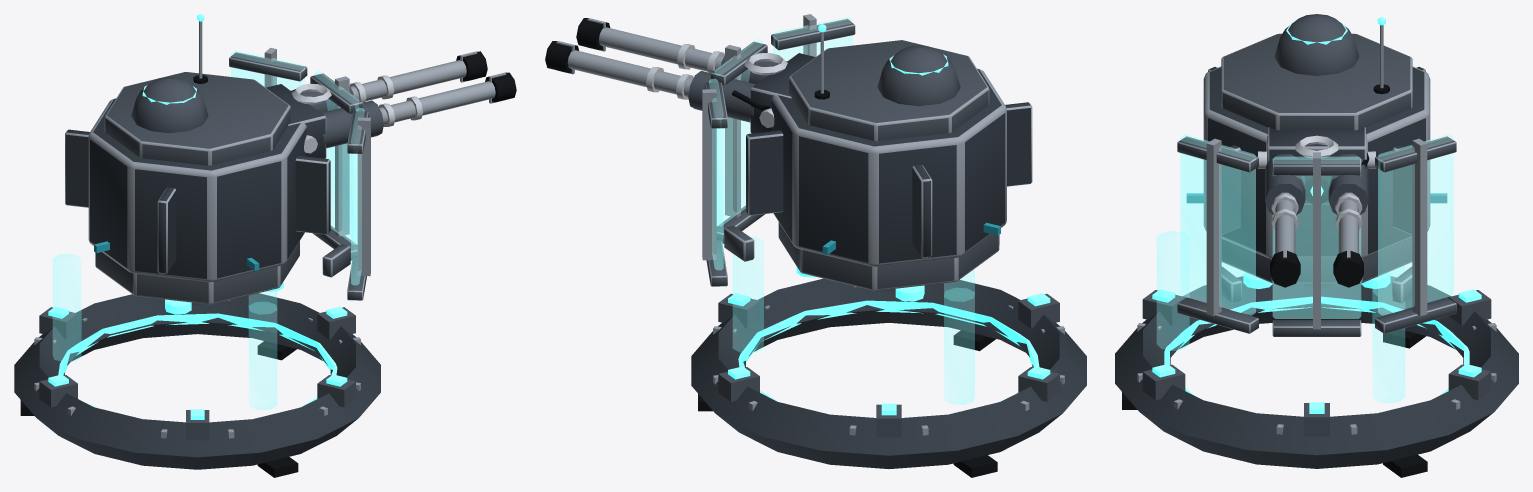
The model's file is enemigo_centinela_flotante.glb.
3 views of the same model, side by side, from view 1: azimuth 30°, elevation 25°; view 2: azimuth 150°, elevation 25°; view 3: azimuth 270°, elevation 25° (orthographic). The views are drawn at different scales.
Parts seen in each view (by area): view 1: mov_anillo, casco, tapa, mov_canon, faldon, domo_sensor, columna_levitacion_2, escudo_panel_2, columna_levitacion_3, placa_blindaje_4, escudo_nervio_1, placa_blindaje_2 (+11 smaller); view 2: mov_anillo, casco, tapa, mov_canon, faldon, domo_sensor, columna_levitacion_2, escudo_panel_2, placa_blindaje_1, columna_levitacion_1, escudo_nervio_3, placa_blindaje_3 (+13 smaller); view 3: mov_anillo, casco, tapa, mov_canon, escudo_panel_3, escudo_panel_1, escudo_panel_2, domo_sensor, columna_levitacion_3, faldon, columna_levitacion_1, escudo_nervio_1 (+14 smaller).
Boxes of the visible parts, x1=… form: mov_anillo: x1=14, y1=293, x2=380, y2=469; casco: x1=88, y1=98, x2=306, y2=282; tapa: x1=104, y1=72, x2=290, y2=165; mov_canon: x1=266, y1=51, x2=516, y2=158; faldon: x1=95, y1=241, x2=299, y2=304; domo_sensor: x1=131, y1=77, x2=208, y2=133; columna_levitacion_2: x1=53, y1=254, x2=81, y2=361; escudo_panel_2: x1=314, y1=71, x2=359, y2=244; columna_levitacion_3: x1=249, y1=302, x2=276, y2=409; placa_blindaje_4: x1=295, y1=155, x2=330, y2=234; escudo_nervio_1: x1=357, y1=117, x2=370, y2=276; placa_blindaje_2: x1=65, y1=129, x2=89, y2=207; mov_anillo: x1=691, y1=278, x2=1086, y2=468; casco: x1=771, y1=68, x2=1006, y2=266; tapa: x1=789, y1=40, x2=989, y2=141; mov_canon: x1=545, y1=18, x2=815, y2=133; faldon: x1=778, y1=222, x2=999, y2=290; domo_sensor: x1=877, y1=45, x2=960, y2=106; columna_levitacion_2: x1=944, y1=288, x2=974, y2=404; escudo_panel_2: x1=714, y1=39, x2=763, y2=226; placa_blindaje_1: x1=746, y1=130, x2=783, y2=215; columna_levitacion_1: x1=733, y1=236, x2=763, y2=352; escudo_nervio_3: x1=702, y1=89, x2=716, y2=260; placa_blindaje_3: x1=1005, y1=102, x2=1032, y2=186; mov_anillo: x1=1115, y1=276, x2=1518, y2=468; casco: x1=1203, y1=66, x2=1430, y2=259; tapa: x1=1221, y1=33, x2=1412, y2=130; mov_canon: x1=1258, y1=127, x2=1375, y2=287; escudo_panel_3: x1=1378, y1=134, x2=1453, y2=315; escudo_panel_1: x1=1180, y1=134, x2=1255, y2=315; escudo_panel_2: x1=1272, y1=156, x2=1361, y2=318; domo_sensor: x1=1274, y1=14, x2=1359, y2=75; columna_levitacion_3: x1=1157, y1=231, x2=1189, y2=350; faldon: x1=1221, y1=239, x2=1412, y2=283; columna_levitacion_1: x1=1372, y1=284, x2=1404, y2=403; escudo_nervio_1: x1=1206, y1=138, x2=1221, y2=316.
Size of the model in its own units: 0.99 by 0.756 by 0.6854.
